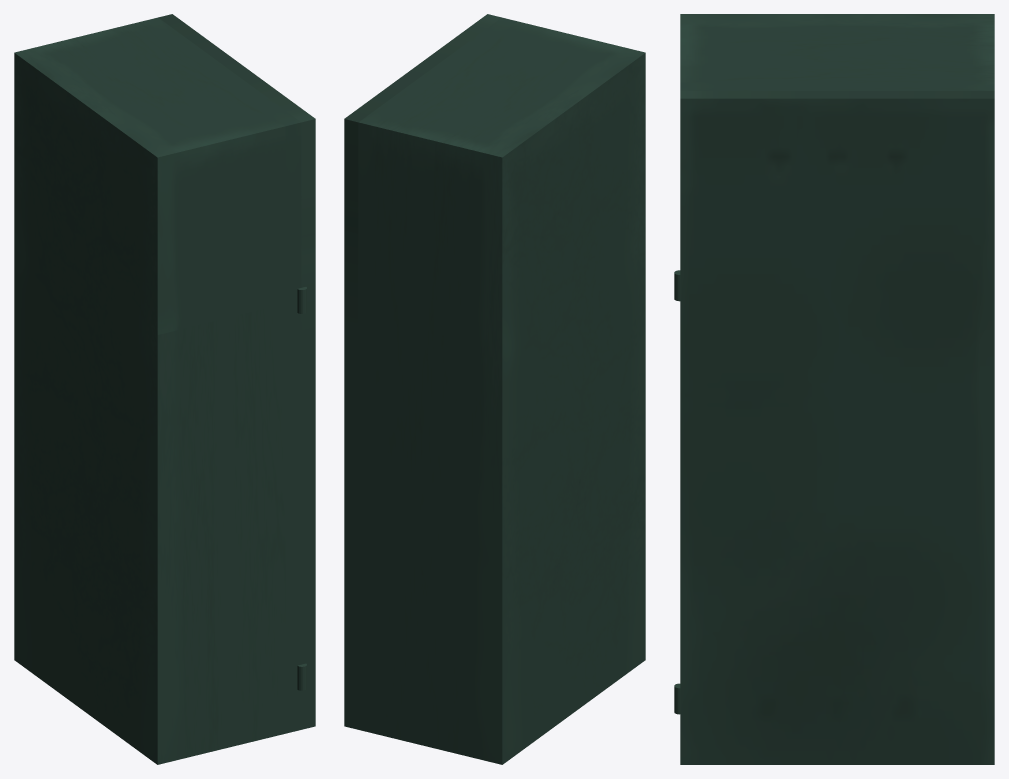
Rendered from AOW.fbx.
3 views of the same model, side by side, from view 1: azimuth 30°, elevation 25°; view 2: azimuth 150°, elevation 25°; view 3: azimuth 270°, elevation 25° (orthographic). The views are drawn at different scales.
Visible parts, largest first — view 1: Cube.013, Cube.014; view 2: Cube.013, Cube.014; view 3: Cube.014, Cube.013.
Boxes of the visible parts, x1,y1,x2,y2 form: Cube.013: [14, 17, 301, 764]; Cube.014: [158, 14, 315, 729]; Cube.013: [358, 17, 645, 764]; Cube.014: [344, 14, 501, 729]; Cube.014: [674, 91, 994, 764]; Cube.013: [680, 14, 994, 90].
Bounding box in the file's own units: 114 × 419 × 183.
